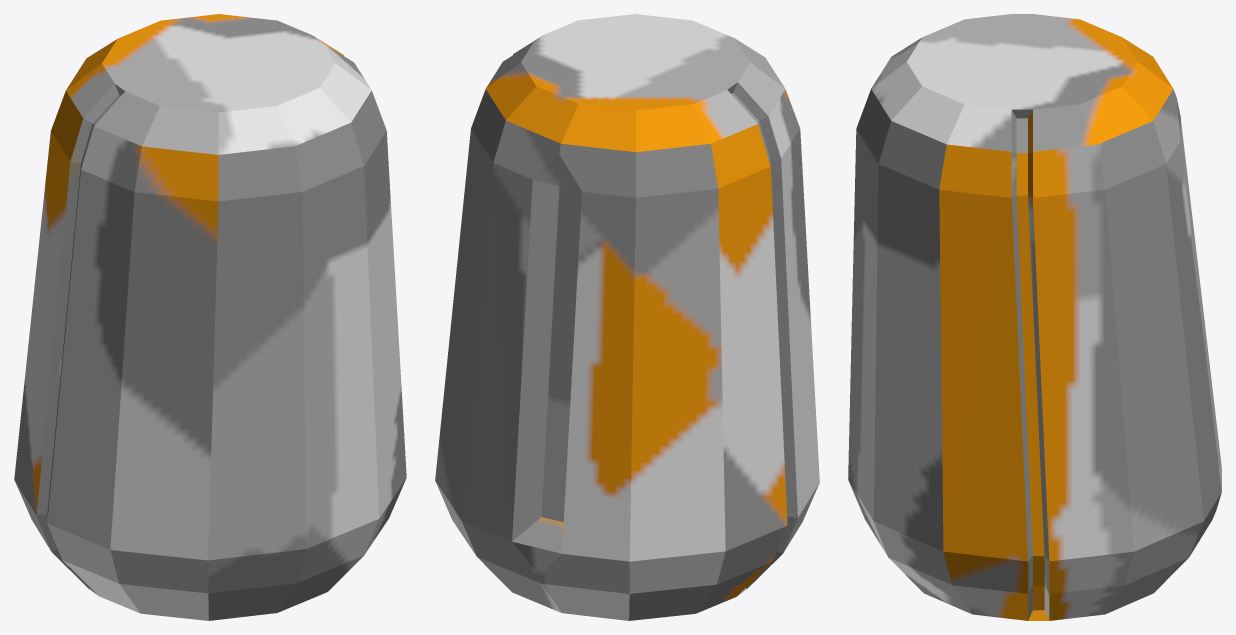
The model's file is Neck.obj.
3 renders of one model, left to right at view 1: azimuth 30°, elevation 25°; view 2: azimuth 150°, elevation 25°; view 3: azimuth 270°, elevation 25°, orthographic. The views are drawn at different scales.
Parts seen in each view (by area): view 1: Neck_Mesh.467; view 2: Neck_Mesh.467; view 3: Neck_Mesh.467.
Part boxes in pixels (x1,y1,x2,y2): Neck_Mesh.467: [14, 14, 406, 620]; Neck_Mesh.467: [435, 14, 819, 620]; Neck_Mesh.467: [848, 14, 1221, 620].
Bounding box in the file's own units: 0.0762 × 0.1095 × 0.0738.
Materials: 1 (1 with a texture image).
